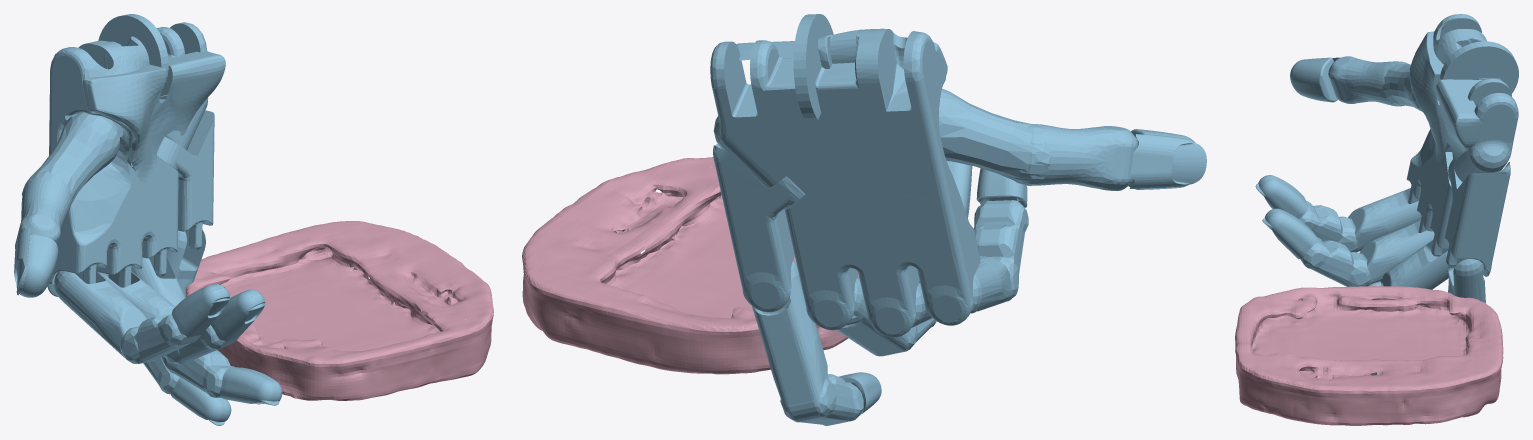
3 views of the same model, side by side, from view 1: azimuth 30°, elevation 25°; view 2: azimuth 150°, elevation 25°; view 3: azimuth 270°, elevation 25° (orthographic). The views are drawn at different scales.
Visible parts, largest first — view 1: hand, world; view 2: hand, world; view 3: hand, world.
Part boxes in pixels (<box>): hand: <box>14,14,282,425</box>; world: <box>185,221,493,400</box>; hand: <box>710,14,1206,425</box>; world: <box>522,157,859,374</box>; hand: <box>1255,14,1518,374</box>; world: <box>1235,286,1503,425</box>.
Size of the model in its own units: 0.2433 by 0.1752 by 0.1392.
